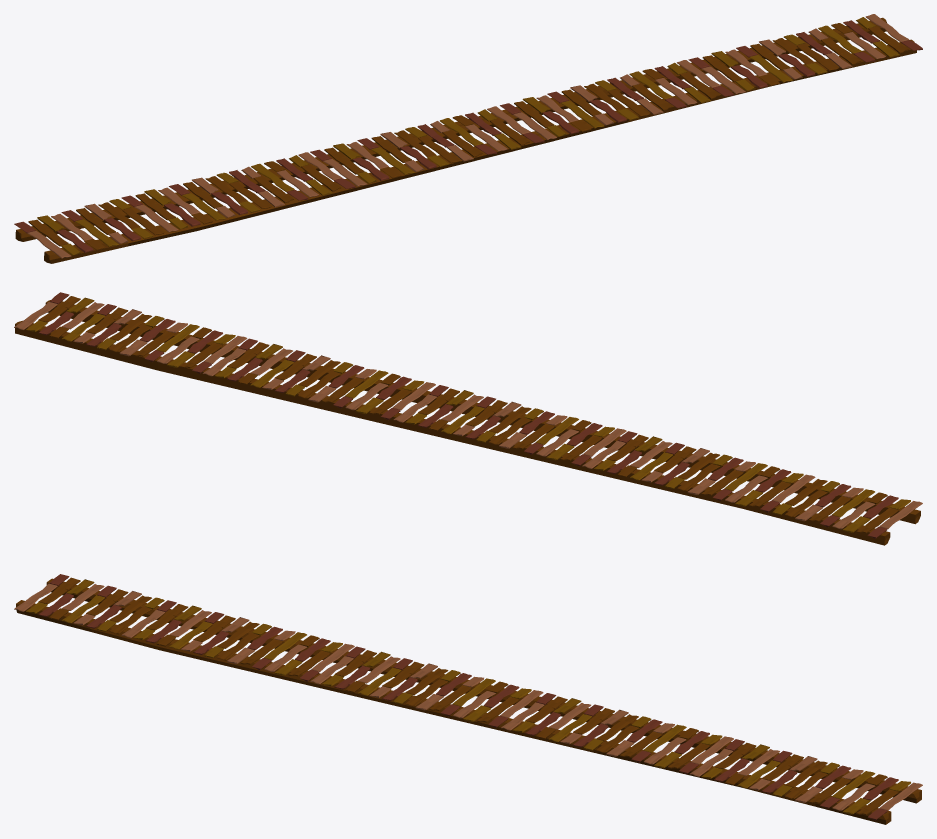
File: walk.glb
The picture shows the model from 3 angles, top to bottom: view 1: azimuth 30°, elevation 25°; view 2: azimuth 150°, elevation 25°; view 3: azimuth 330°, elevation 25°; orthographic projection.
Parts seen in each view (by area): view 1: Cube.078_Cube.107; view 2: Cube.078_Cube.107; view 3: Cube.078_Cube.107.
Part boxes in pixels (x1,y1,x2,y2): Cube.078_Cube.107: [14, 14, 922, 263]; Cube.078_Cube.107: [14, 292, 922, 545]; Cube.078_Cube.107: [14, 574, 922, 824].
Size of the model in its own units: 19.14 by 0.2472 by 1.87.
